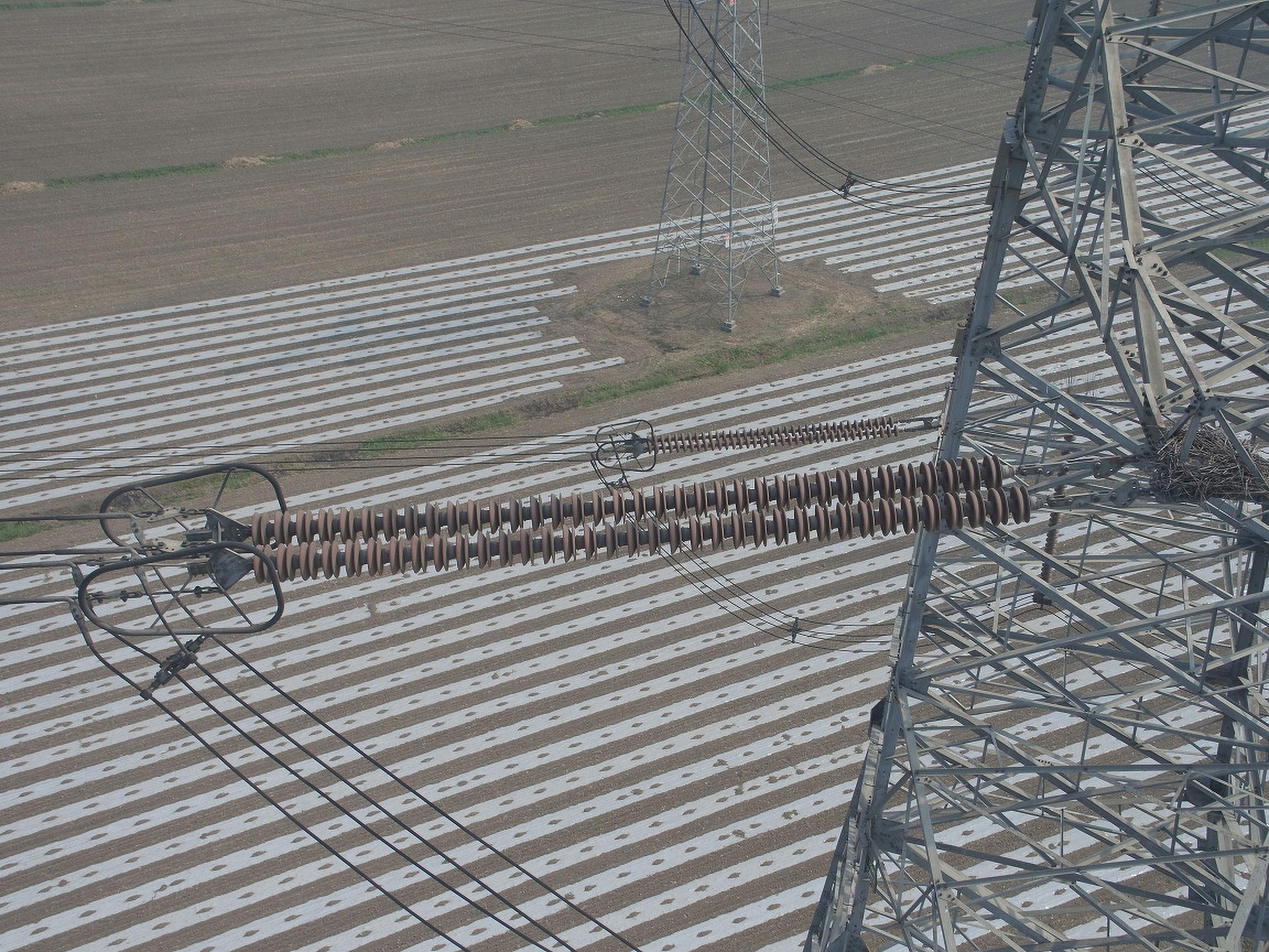insulator: (244, 450, 1036, 589), (643, 413, 902, 456), (1037, 432, 1079, 583), (1125, 1, 1167, 127)
